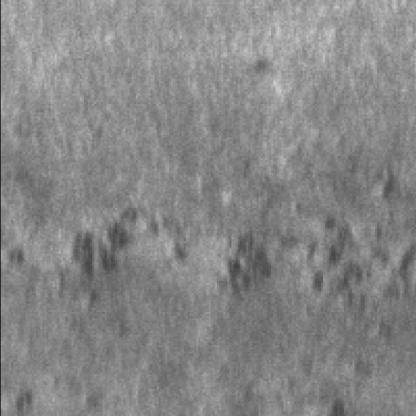rolled-in_scale: (212, 192, 412, 350), (33, 212, 187, 318)
